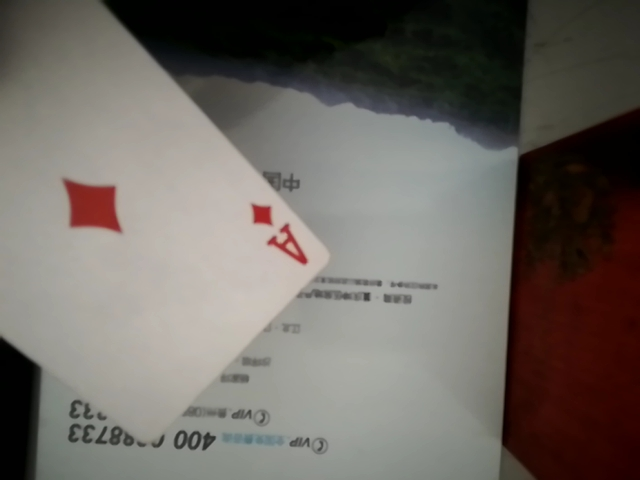fk a: (0, 0, 332, 470)
